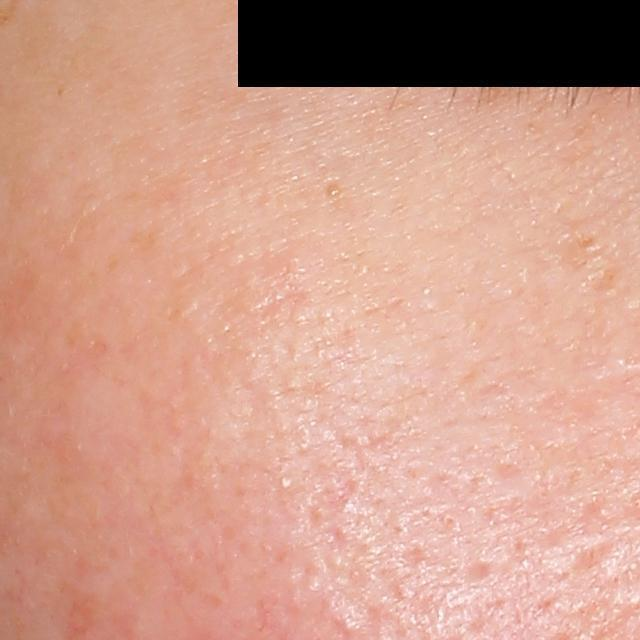melasma: (467, 76, 527, 111), (559, 232, 604, 273)
